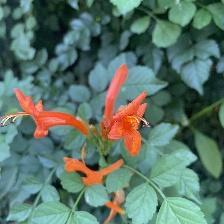honeysuckle: (1, 86, 95, 144)
